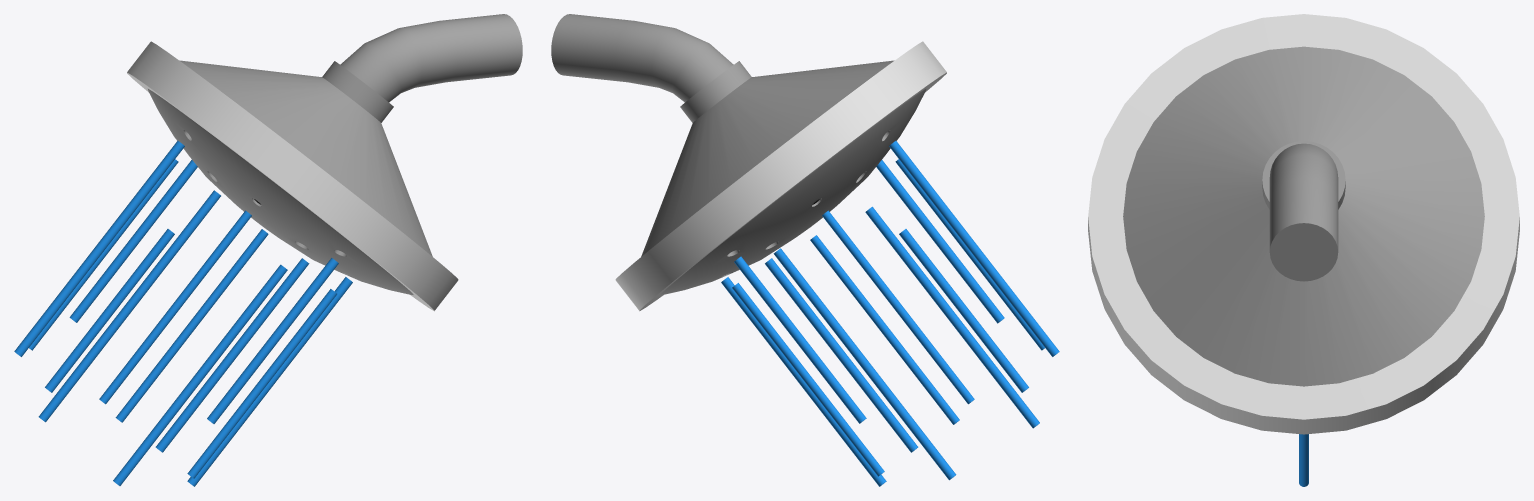
The model's file is shower.gltf.
3 views of the same model, side by side, from view 1: azimuth 30°, elevation 25°; view 2: azimuth 150°, elevation 25°; view 3: azimuth 270°, elevation 25° (orthographic). The views are drawn at different scales.
Visible parts, largest first — view 1: Circle.2604; view 2: Circle.2604; view 3: Circle.2604.
Part boxes in pixels (x1,y1,x2,y2): Circle.2604: (14, 14, 522, 486); Circle.2604: (551, 14, 1059, 486); Circle.2604: (1088, 14, 1519, 486).
Bounding box in the file's own units: 2.11 × 1.72 × 1.44.
1 material, 1 textured.
